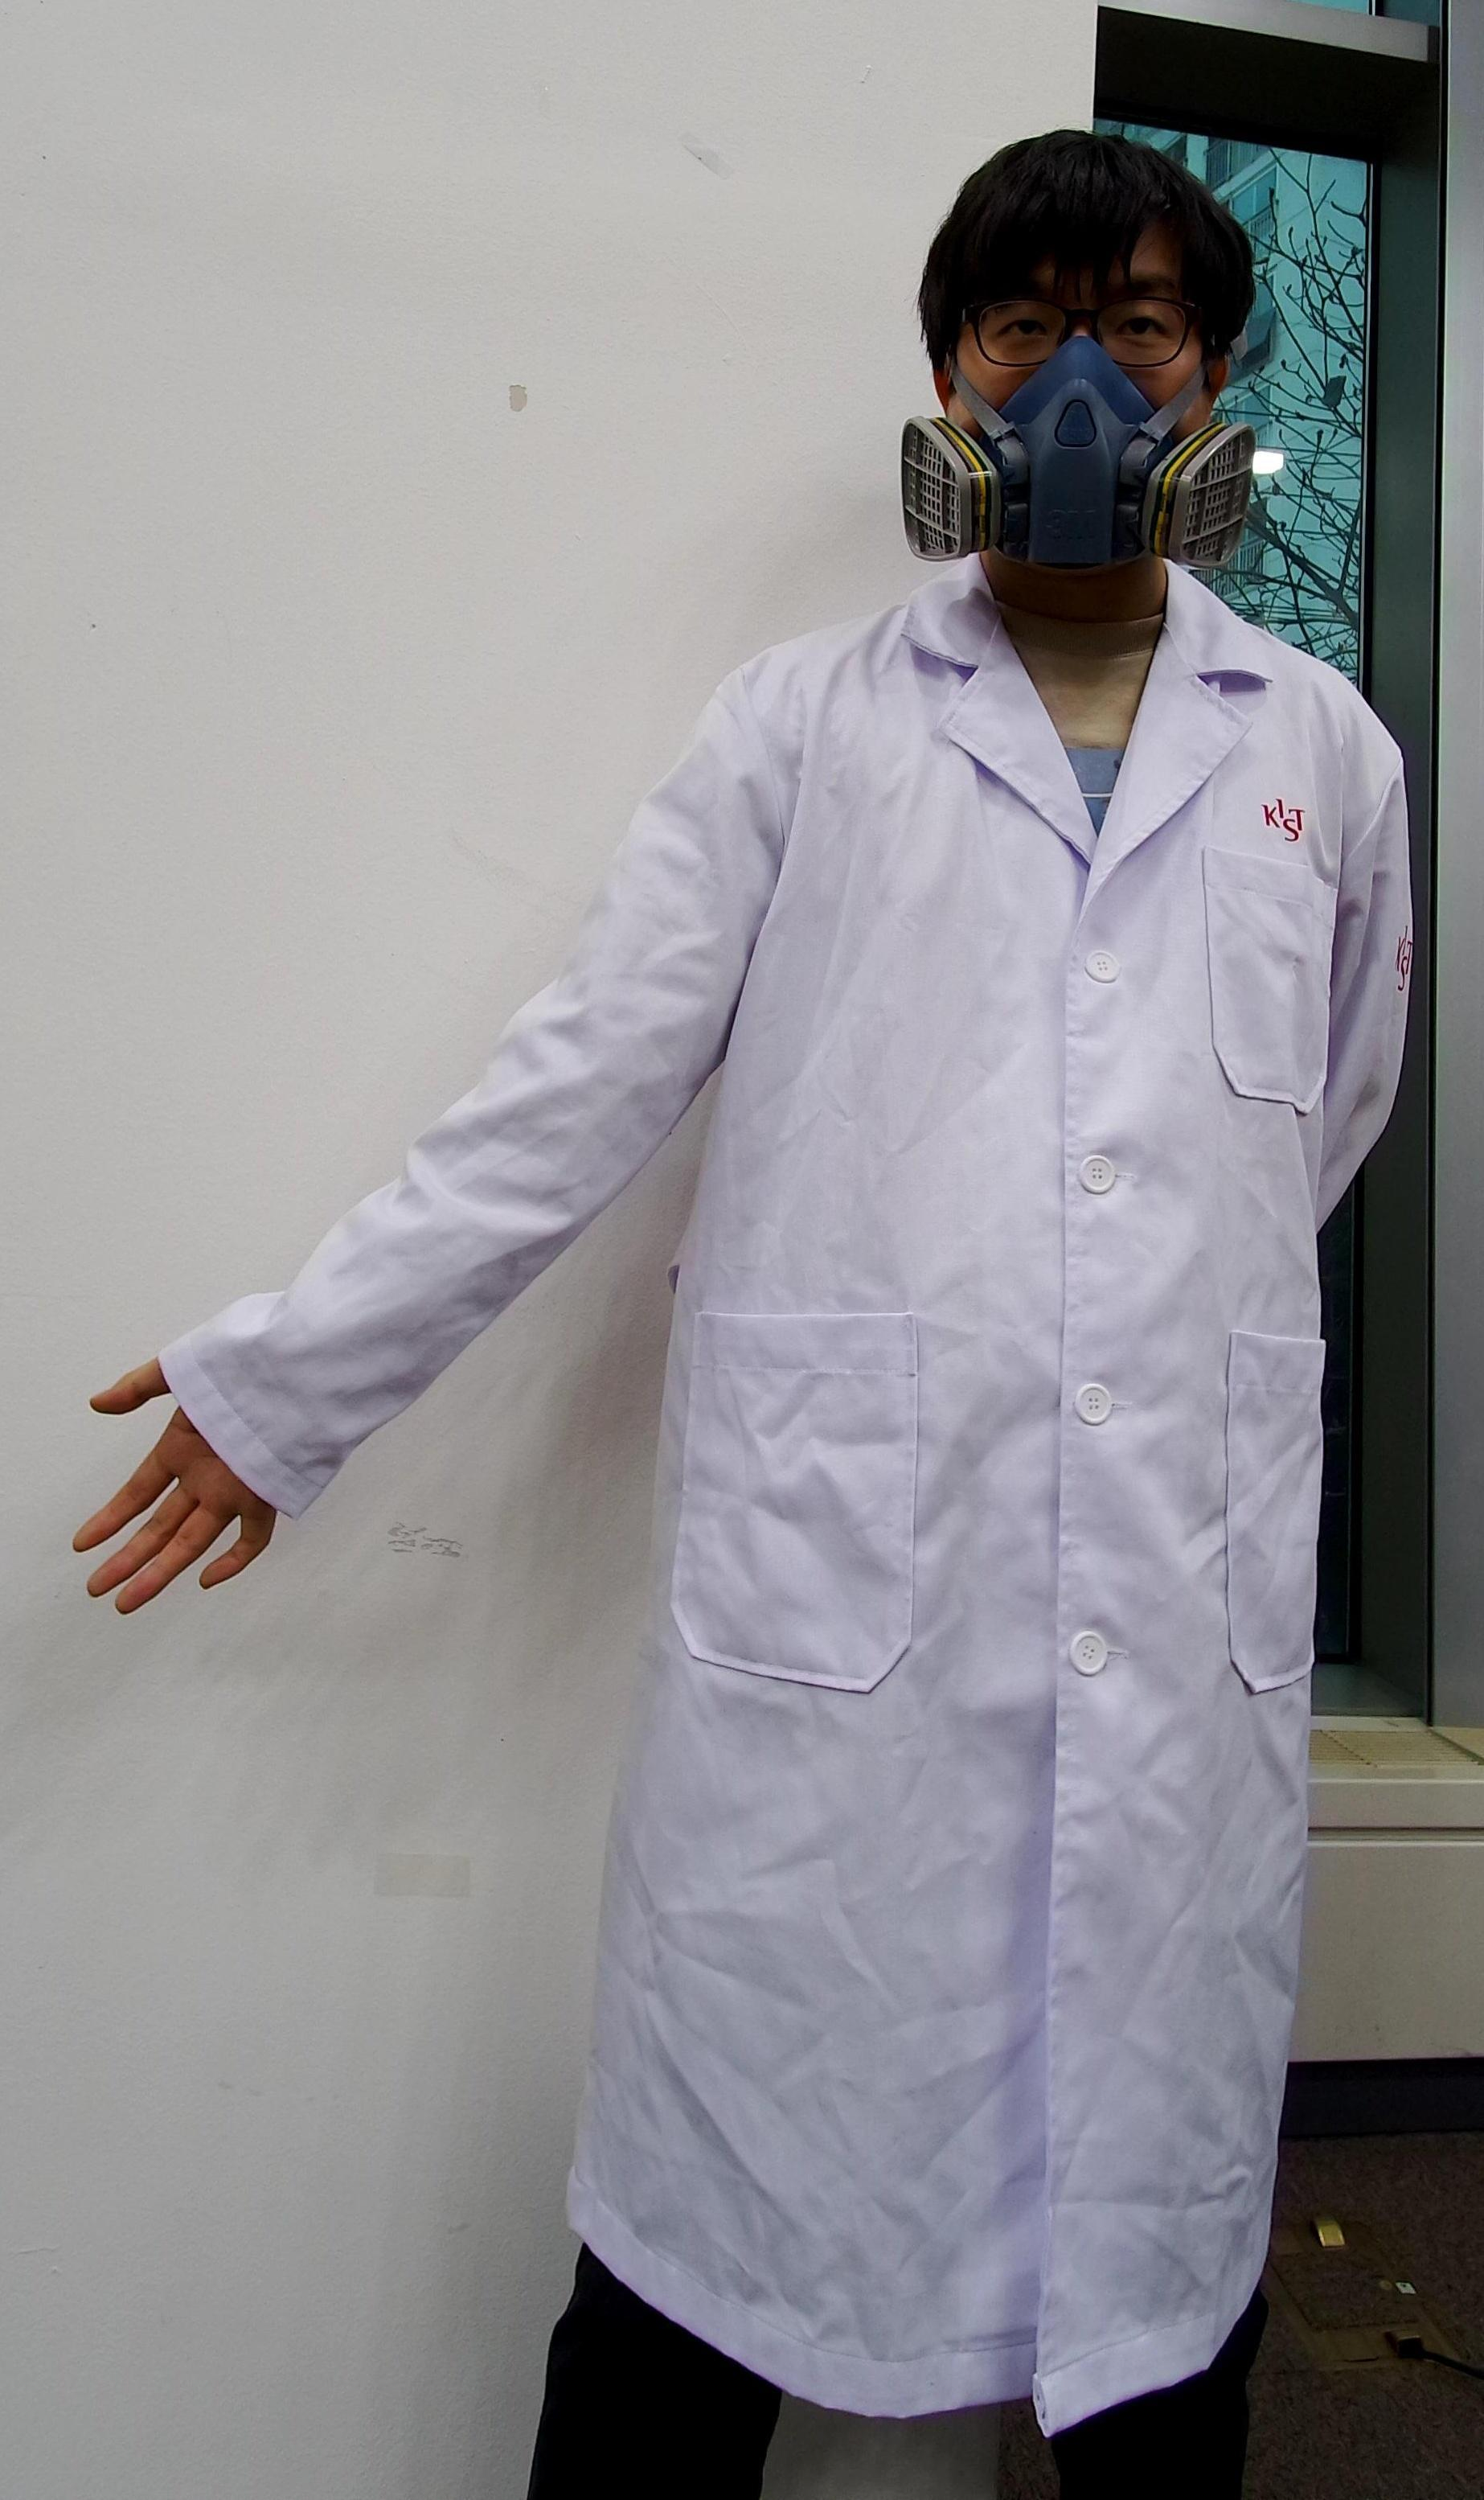lab_coat: (283, 633, 1417, 2345)
